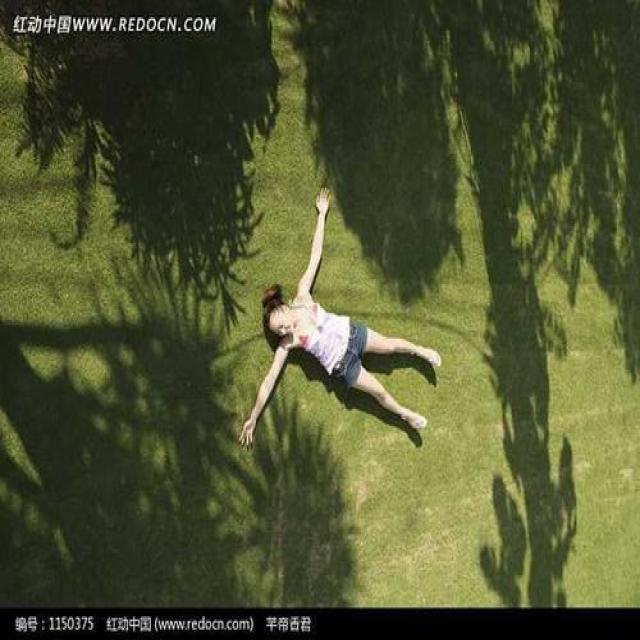fall: (240, 190, 450, 438)
